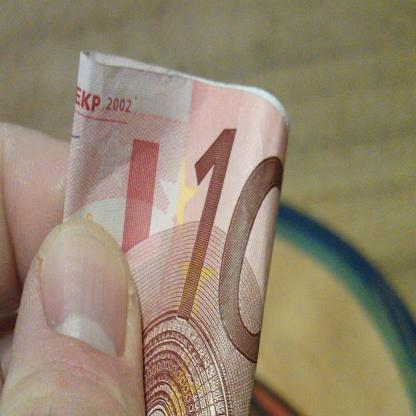billete: (60, 43, 292, 416)
